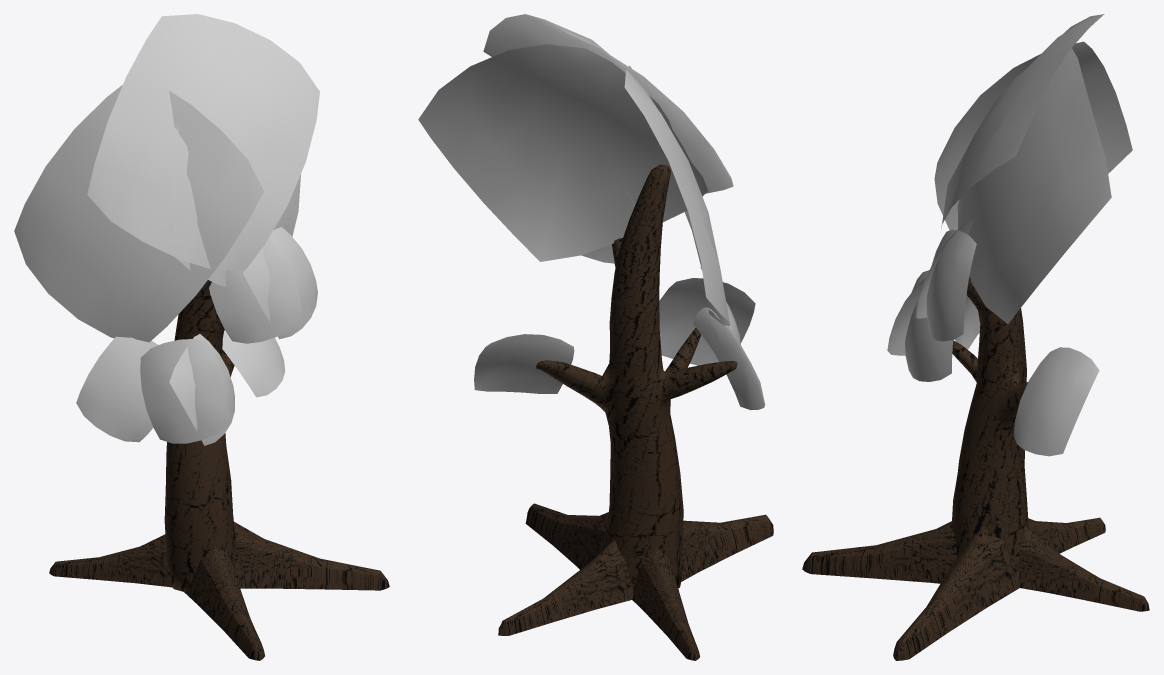
File: littletree5fbx.fbx
3 renders of one model, left to right at view 1: azimuth 30°, elevation 25°; view 2: azimuth 150°, elevation 25°; view 3: azimuth 270°, elevation 25°, orthographic. The views are drawn at different scales.
Visible parts, largest first — view 1: Plane009, Plane007, Group26301, Plane013, Box004, Plane010, Plane014, Box003, Box002, Plane015, Plane011, Plane012 (+1 smaller); view 2: Plane008, Group26301, Plane009, Box001, Plane007, Plane011, Plane012, Box002, Box003, Box004, Plane010; view 3: Plane008, Group26301, Plane009, Box004, Plane007, Plane011, Box003, Box001, Plane015, Plane012, Box002, Plane013 (+2 smaller).
Boxes of the visible parts, left/top/right/bottom form: Plane009: left=87, top=14, right=319, bottom=270; Plane007: left=14, top=85, right=263, bottom=342; Group26301: left=164, top=280, right=236, bottom=592; Plane013: left=140, top=339, right=228, bottom=443; Box004: left=234, top=522, right=389, bottom=590; Plane010: left=76, top=336, right=158, bottom=442; Plane014: left=209, top=237, right=302, bottom=343; Box003: left=184, top=546, right=264, bottom=660; Box002: left=49, top=534, right=172, bottom=587; Plane015: left=243, top=227, right=317, bottom=339; Plane011: left=222, top=330, right=285, bottom=397; Plane012: left=169, top=334, right=234, bottom=445; Plane008: left=418, top=44, right=708, bottom=261; Group26301: left=536, top=164, right=737, bottom=588; Plane009: left=483, top=14, right=733, bottom=193; Box001: left=498, top=539, right=633, bottom=635; Plane007: left=624, top=65, right=730, bottom=325; Plane011: left=474, top=334, right=574, bottom=393; Plane012: left=659, top=278, right=755, bottom=365; Box002: left=632, top=549, right=699, bottom=660; Box003: left=681, top=514, right=773, bottom=581; Box004: left=525, top=503, right=608, bottom=569; Plane010: left=693, top=307, right=765, bottom=409; Plane008: left=957, top=48, right=1111, bottom=323; Group26301: left=951, top=276, right=1028, bottom=567; Plane009: left=941, top=14, right=1104, bottom=230; Box004: left=893, top=526, right=1020, bottom=660; Plane007: left=934, top=41, right=1132, bottom=230; Plane011: left=1013, top=347, right=1099, bottom=456; Box003: left=802, top=521, right=957, bottom=583; Box001: left=1018, top=527, right=1149, bottom=611; Plane015: left=926, top=229, right=976, bottom=341; Plane012: left=905, top=270, right=952, bottom=381; Box002: left=1028, top=517, right=1105, bottom=553; Plane013: left=887, top=277, right=925, bottom=355.
Size of the model in its own units: 169 by 322 by 176.
